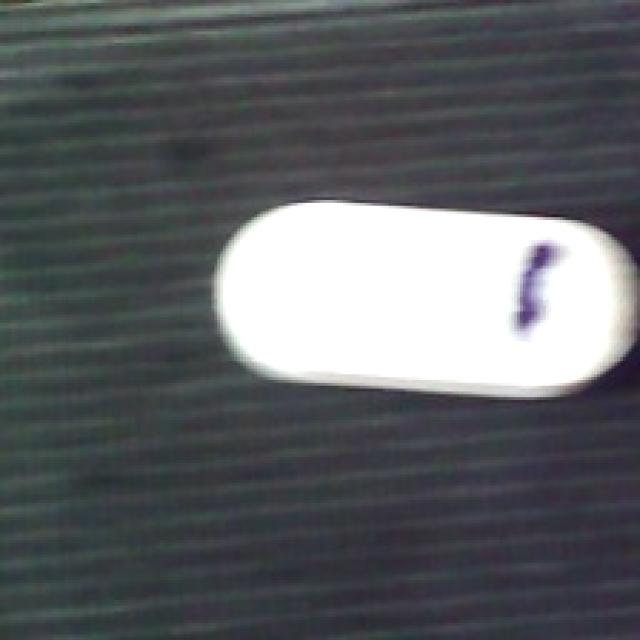defected: (206, 194, 640, 402)
